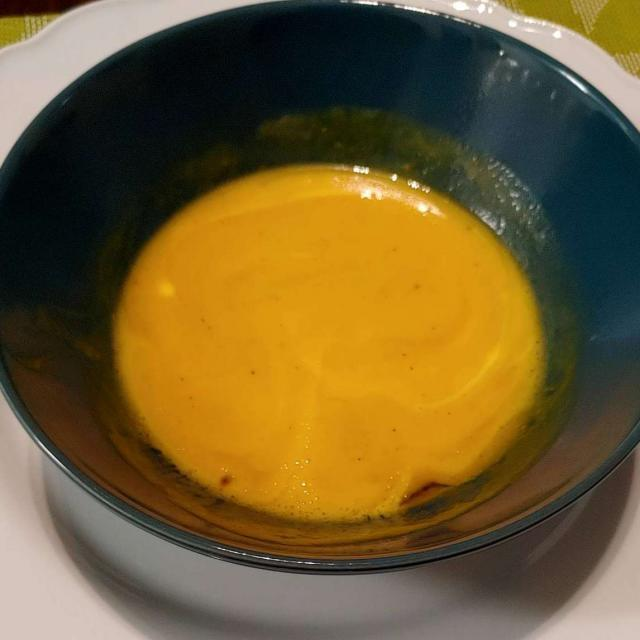soup: (106, 158, 554, 522)
